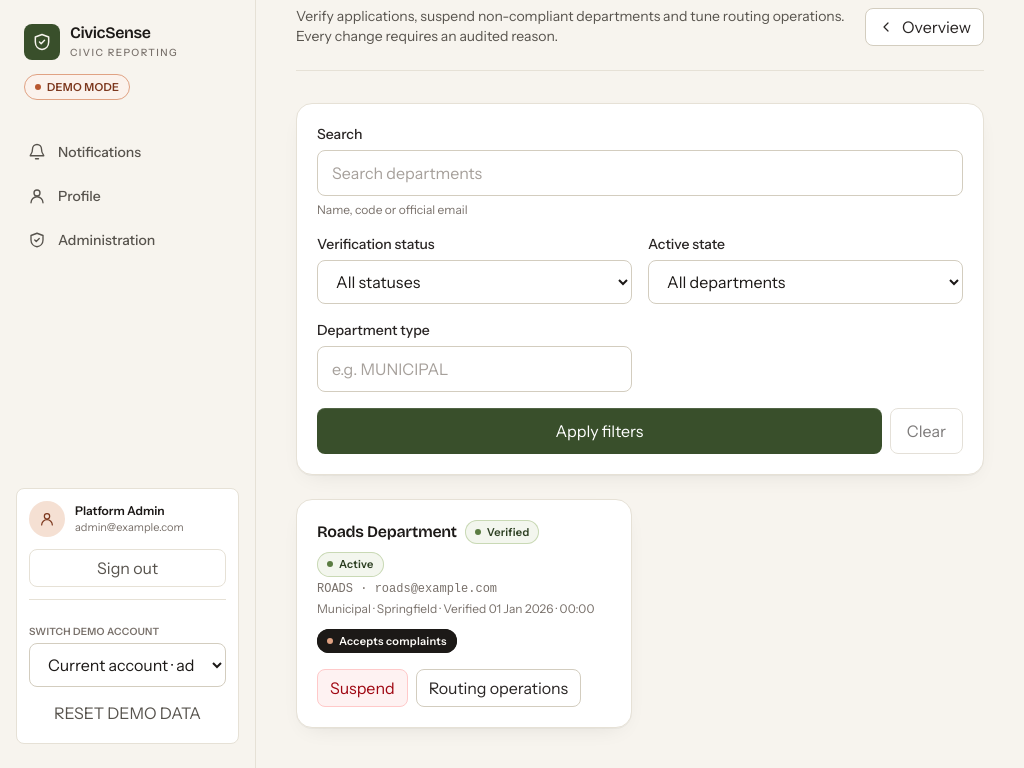
it: admin department governance › submits audited routing operations
Later steps or results of the test are not shown.
(page scrolled)
Expected: the heading "Roads Department" is shown, [317, 520, 457, 544]
Click the button "Routing operations": (498,688) [416, 669, 581, 707]
(page scrolled)
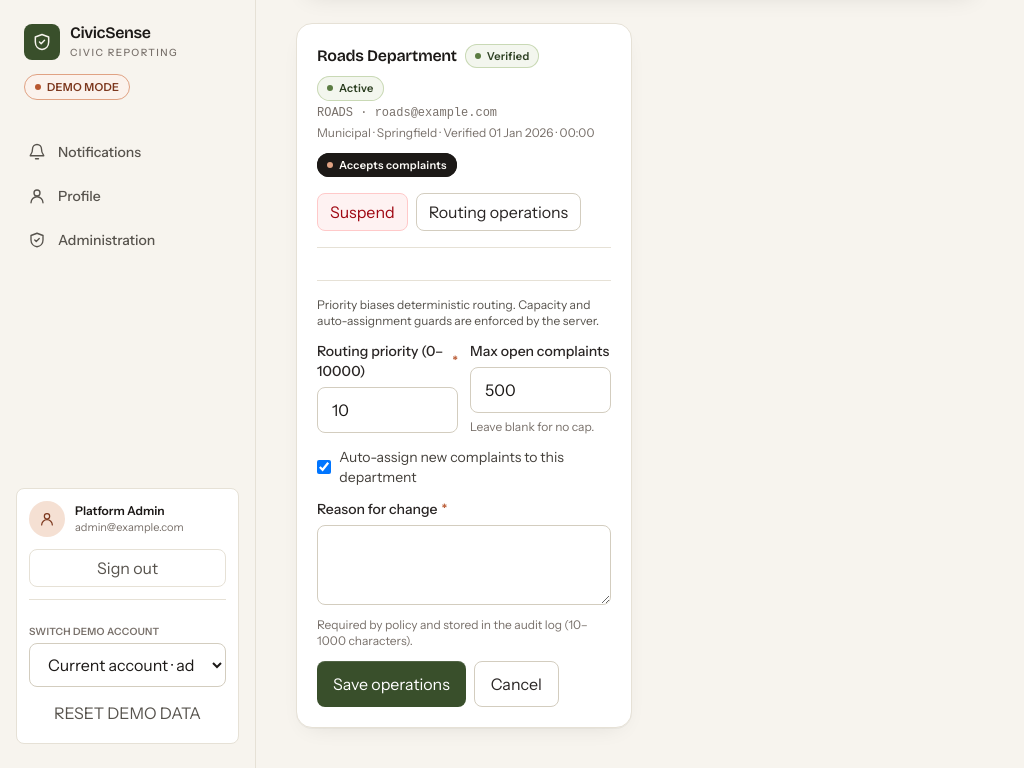
Now the number field labelled "Routing priority (0–10000) *" holds "10", box [317, 387, 458, 433]
